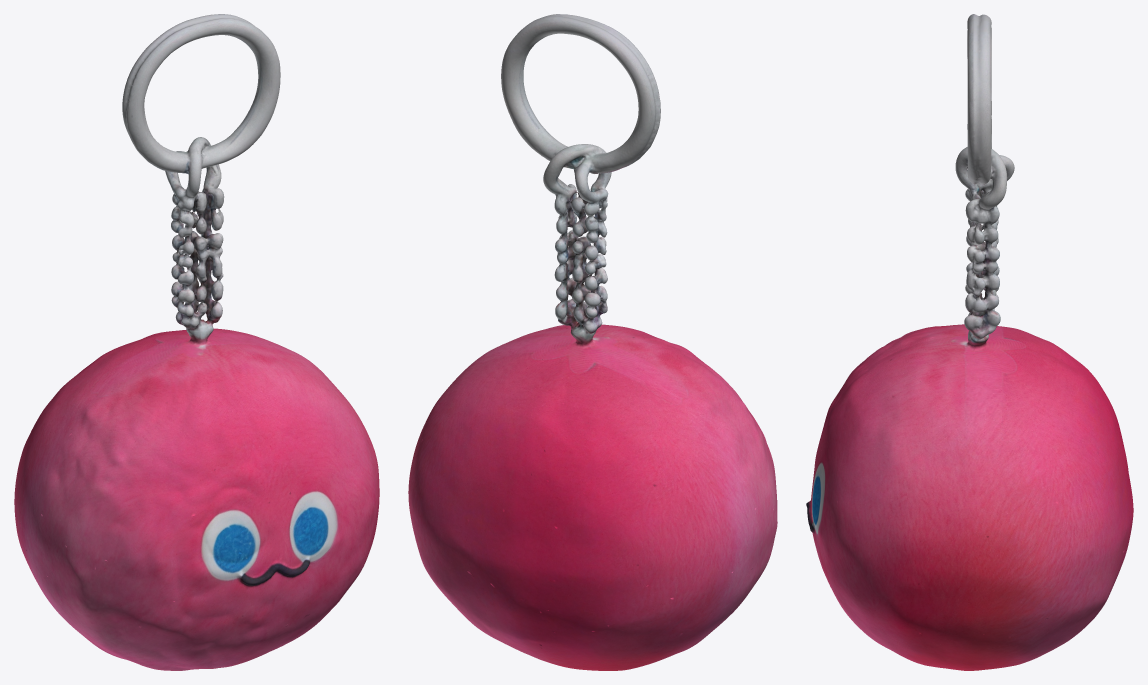
File: hanging-ball-pink.glb
3 views of the same model, side by side, from view 1: azimuth 30°, elevation 25°; view 2: azimuth 150°, elevation 25°; view 3: azimuth 270°, elevation 25° (orthographic).
Bounding box in the file's own units: 1.07 × 2 × 0.9479.
1 material, 1 textured.
